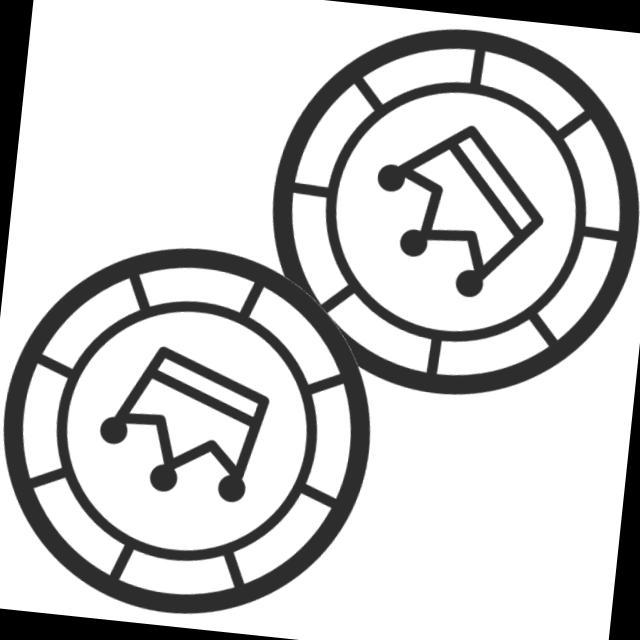coin: (1, 226, 397, 637), (249, 5, 640, 421)
